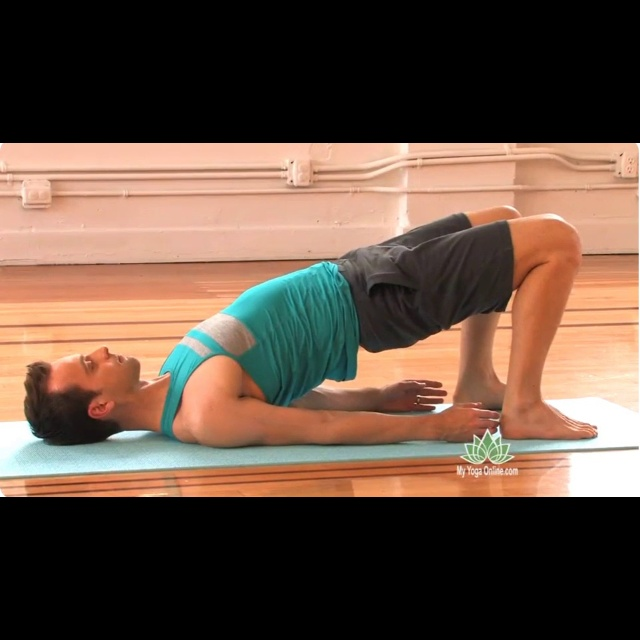Bridge_Pose: (10, 201, 603, 447)
